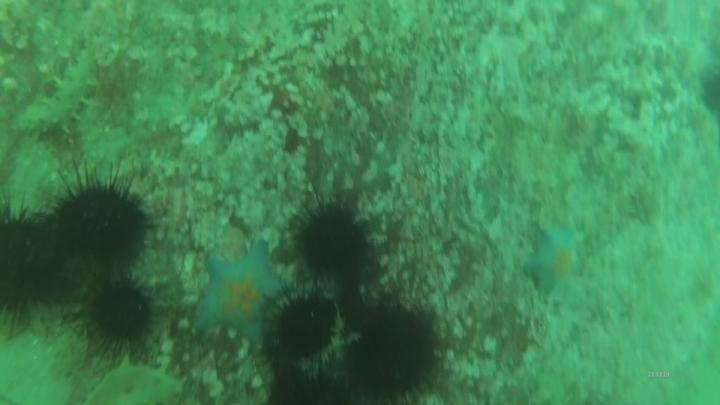echinus: (47, 168, 154, 269), (341, 302, 444, 403), (0, 198, 69, 329), (290, 199, 372, 281), (81, 273, 159, 356), (270, 289, 343, 362), (268, 363, 358, 405), (697, 68, 720, 119)
holothurian: (17, 50, 103, 140), (82, 360, 188, 405)
starfish: (190, 240, 291, 349), (522, 223, 587, 300)
